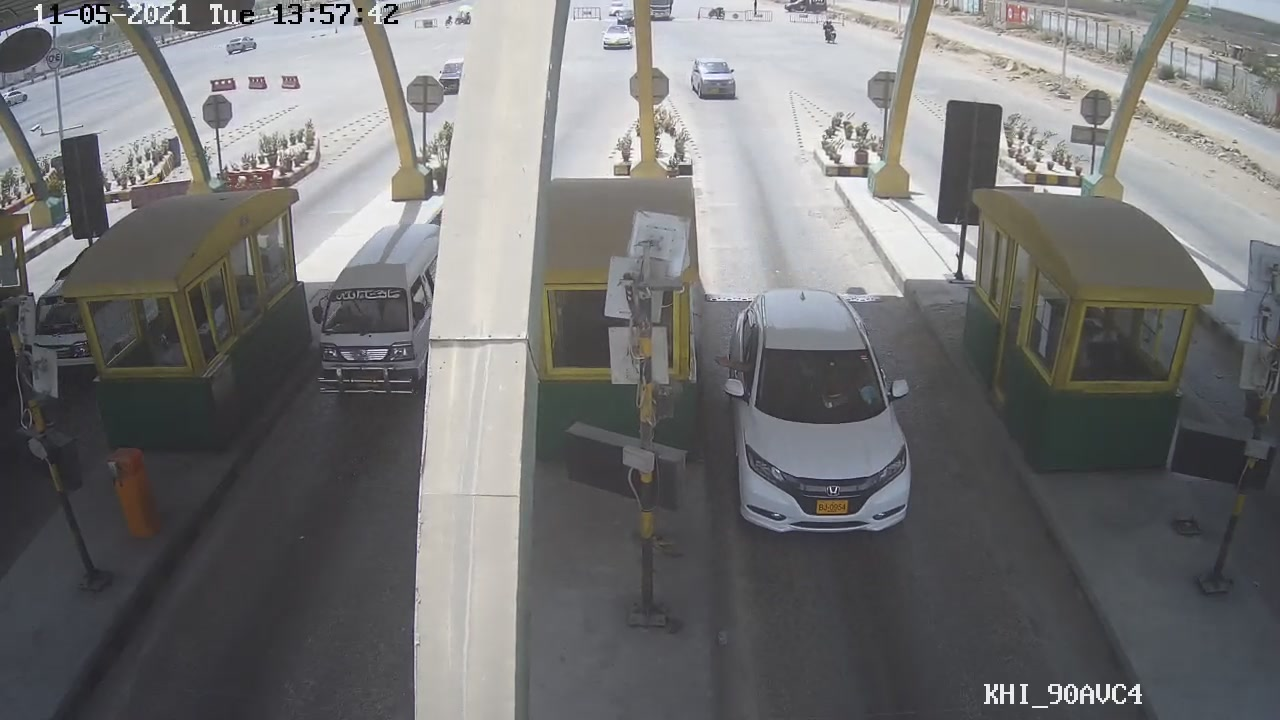F1: (721, 279, 936, 546)
